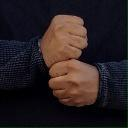hand: (40, 14, 88, 69), (47, 58, 99, 107)
